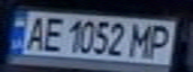0: (78, 18, 96, 54)
1: (63, 17, 84, 54)
2: (106, 19, 130, 57)
5: (93, 18, 112, 56)
A: (21, 14, 51, 52)
E: (39, 15, 66, 53)
M: (127, 20, 160, 60)
P: (142, 22, 178, 60)
